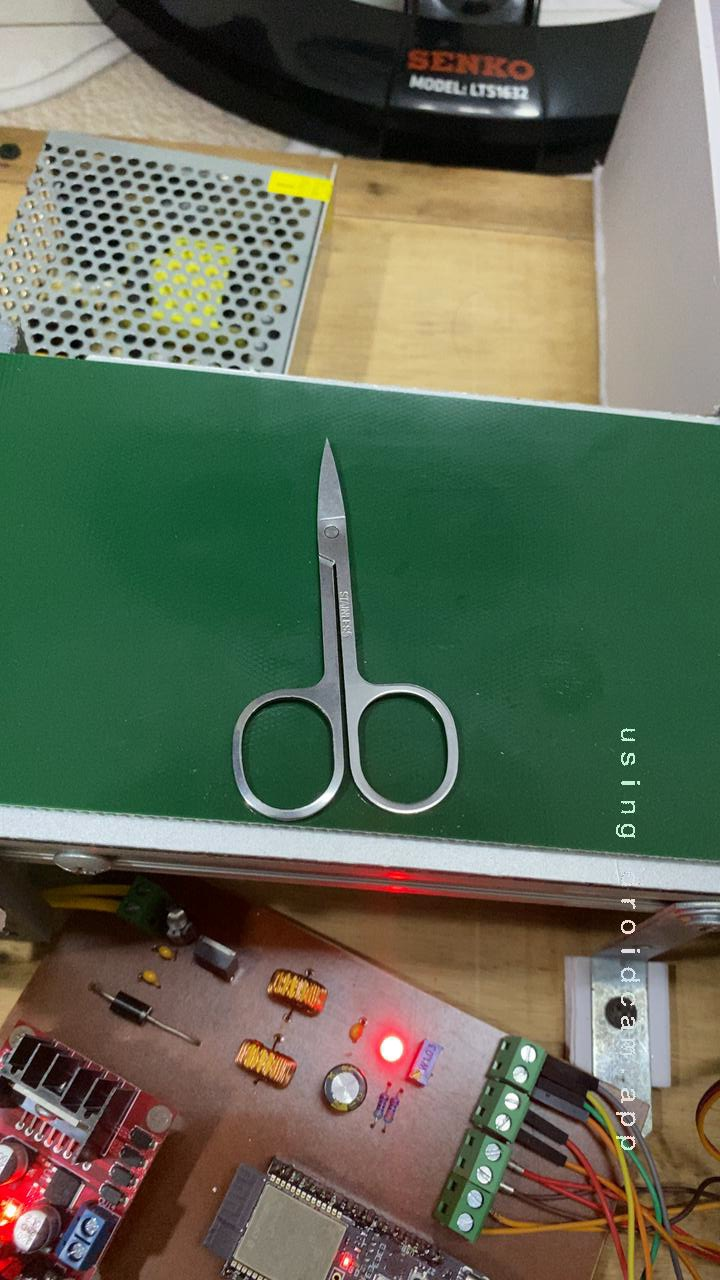scissor: (182, 427, 486, 845)
